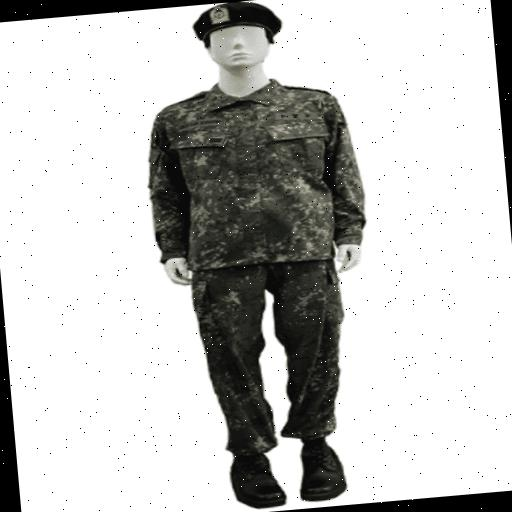korea army: (132, 0, 393, 512)
